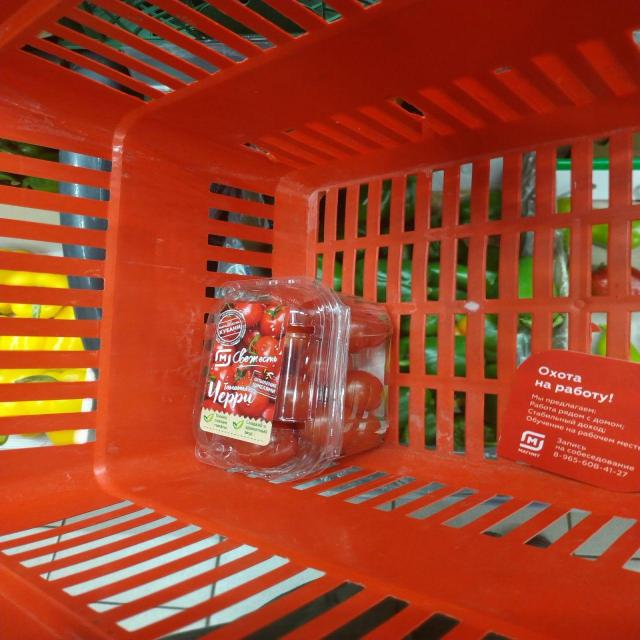tomato: (186, 218, 568, 640), (196, 194, 564, 565), (193, 172, 580, 497), (150, 218, 440, 640), (148, 186, 434, 564)
